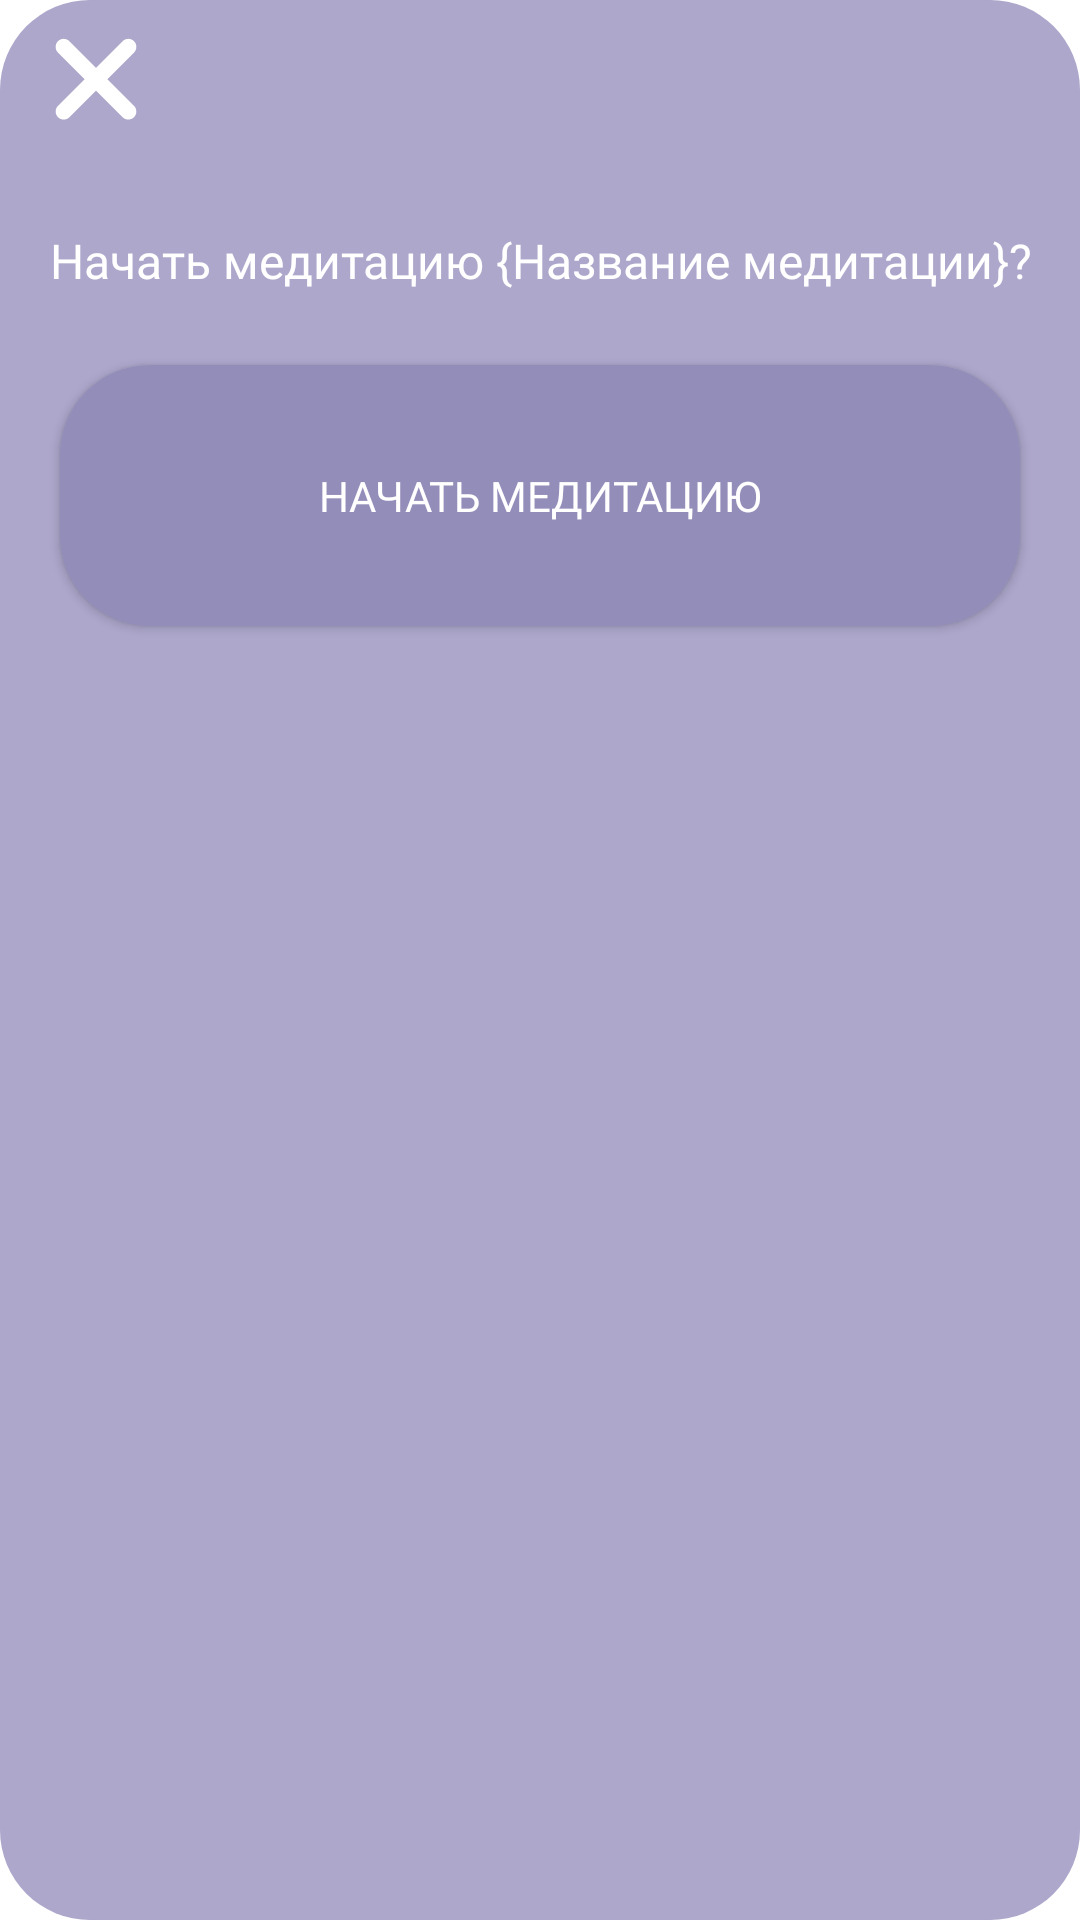

Icon bounding boxes for this 1080*1920 phone screenshot, format [x1=x1, y1=y1, x2=x2, y2=y2]:
cross: [x1=55, y1=39, x2=136, y2=120]
